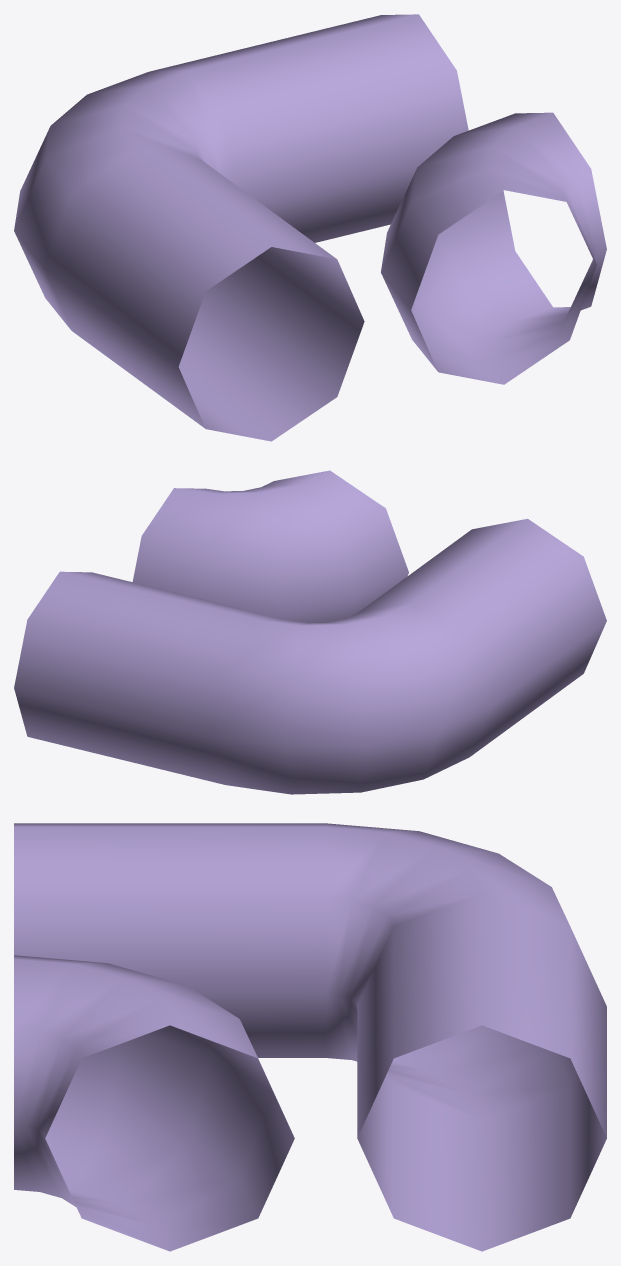
The model's file is tile_pipe_curved.fbx.
3 views of the same model, one above another, from view 1: azimuth 30°, elevation 25°; view 2: azimuth 150°, elevation 25°; view 3: azimuth 270°, elevation 25° (orthographic). The views are drawn at different scales.
Visible parts, largest first — view 1: pTorus5; view 2: pTorus5; view 3: pTorus5.
Boxes of the visible parts, bbox=[...] form: pTorus5: bbox=[14, 14, 606, 441]; pTorus5: bbox=[14, 470, 606, 794]; pTorus5: bbox=[14, 823, 606, 1251].
Size of the model in its own units: 9.5 by 4 by 9.5.
